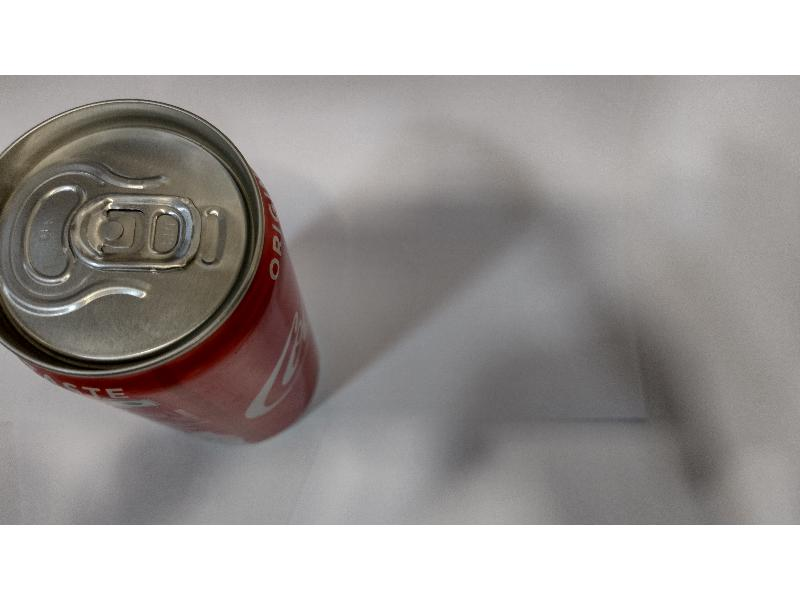can: (2, 95, 319, 445)
